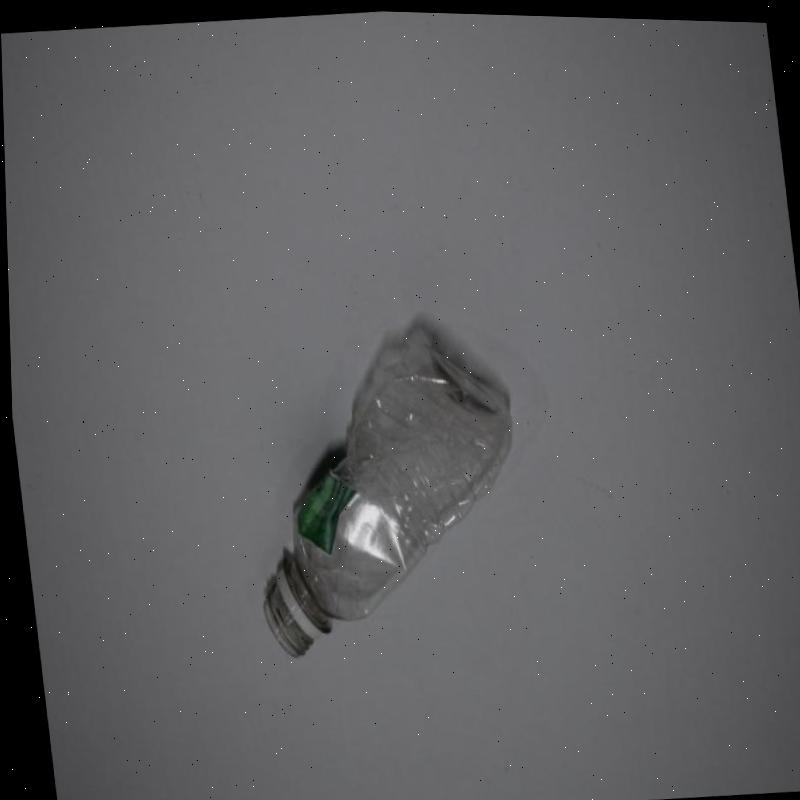botella: (221, 306, 536, 667)
